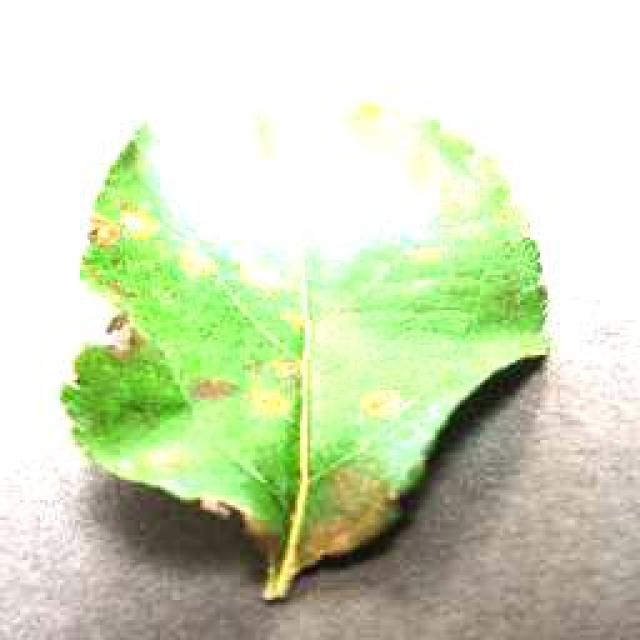apple cedar apple rust: (58, 98, 552, 600)
